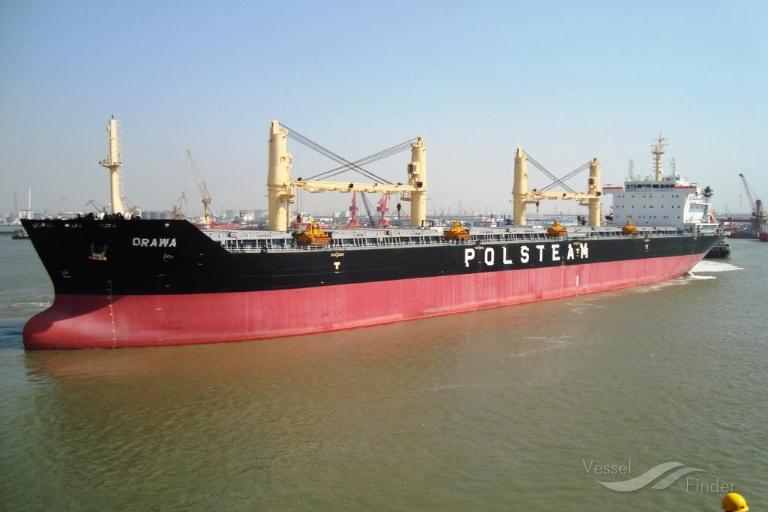OCR: (457, 240, 594, 270), (118, 234, 190, 249)
